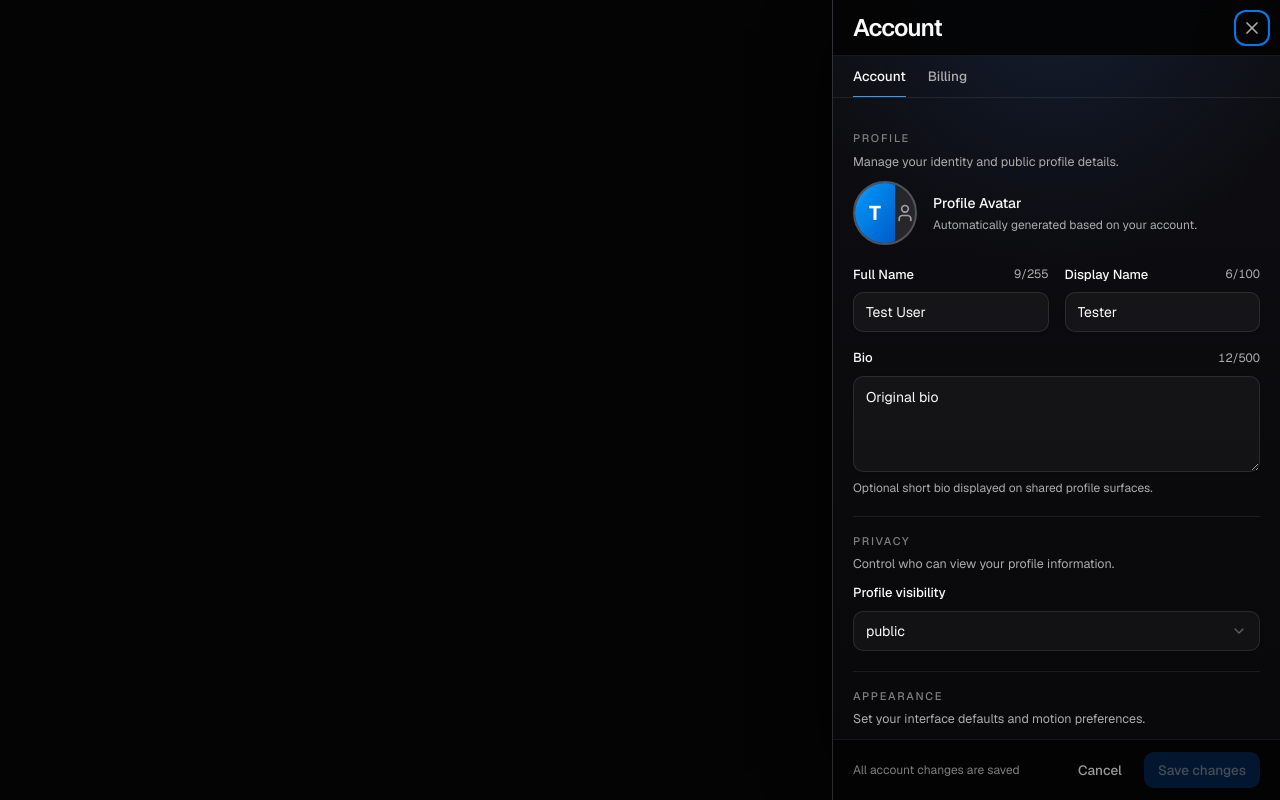
Test: SettingsPanel › renders account and billing sections
Expected: the heading "Profile" is shown, left=853, top=130, right=910, bottom=146
Expected: the heading "Privacy" is shown, left=853, top=533, right=910, bottom=549
Step 1. Click the tab "Billing" → (947,77), box left=928, top=56, right=967, bottom=98
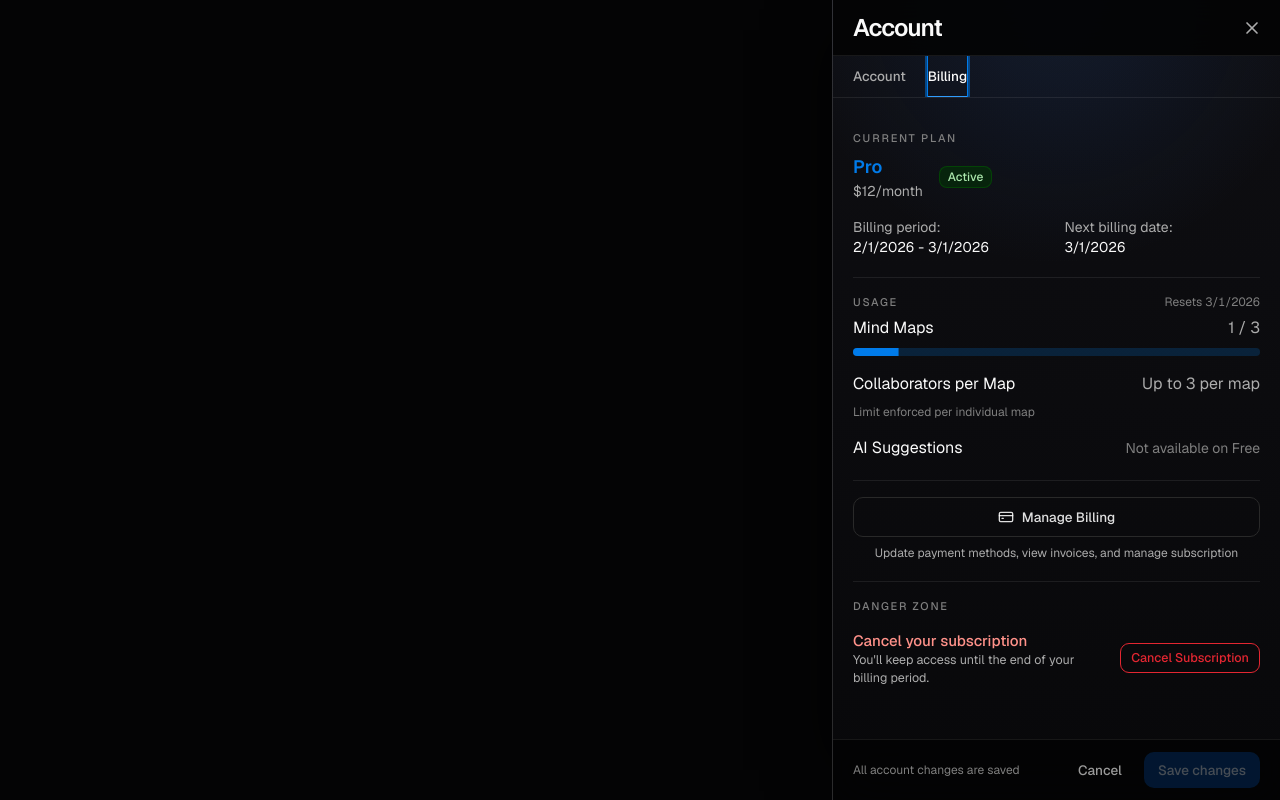
Expected: the heading "Current Plan" is shown, left=853, top=130, right=957, bottom=146
Expected: the heading "Usage" is shown, left=853, top=294, right=898, bottom=310
Expected: the button "Cancel Subscription" is shown, left=1120, top=643, right=1260, bottom=673
